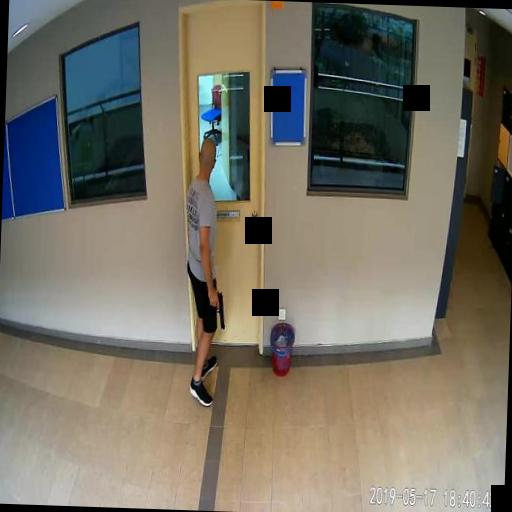Handgun: (206, 289, 224, 327)
